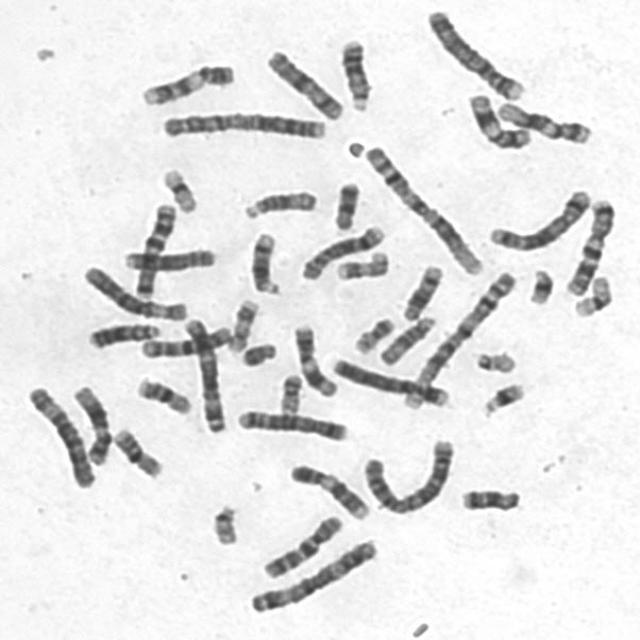A1: (396, 265, 519, 413), (357, 139, 487, 277)
A2: (356, 432, 457, 517), (155, 103, 330, 142)
A3: (244, 533, 380, 615), (176, 313, 228, 435)
B4: (420, 2, 527, 102), (325, 351, 453, 409)
B5: (483, 182, 594, 252), (230, 404, 350, 443)
C10: (255, 508, 346, 581), (135, 320, 235, 360)
C11: (462, 86, 532, 152), (287, 318, 339, 399)
C12: (490, 94, 594, 146), (66, 379, 113, 466)
C6: (20, 379, 98, 490), (76, 258, 190, 322)
C7: (558, 191, 619, 297), (128, 197, 178, 300)
C8: (293, 218, 388, 282), (116, 241, 219, 273)
C9: (283, 458, 372, 522), (134, 56, 238, 108)
D13: (334, 32, 373, 113), (80, 316, 162, 350)
D14: (396, 260, 446, 324), (243, 226, 283, 296)
D15: (373, 310, 439, 368), (236, 184, 320, 222)
E16: (106, 421, 165, 480), (130, 371, 193, 417)
E17: (221, 292, 262, 354), (329, 245, 391, 282)
E18: (454, 482, 523, 514), (327, 175, 362, 232)
F19: (154, 161, 200, 215), (566, 269, 614, 319)
F20: (347, 311, 398, 354), (272, 368, 304, 416)
G21: (474, 376, 527, 418), (521, 262, 557, 307)
G22: (206, 498, 242, 547), (469, 344, 519, 375)
X: (260, 44, 346, 121)
Y: (235, 336, 278, 369)
